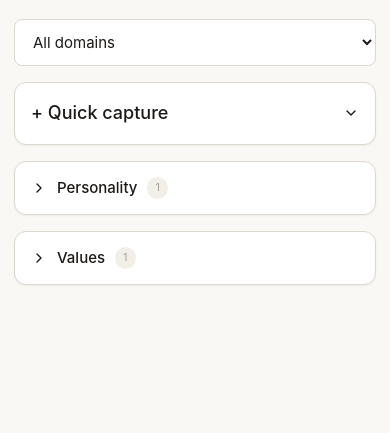
Test case: GraphTab › filters attributes via the mobile domain select
Select "personality" in the dropdown at {"x": 195, "y": 42}, box [14, 19, 376, 66]
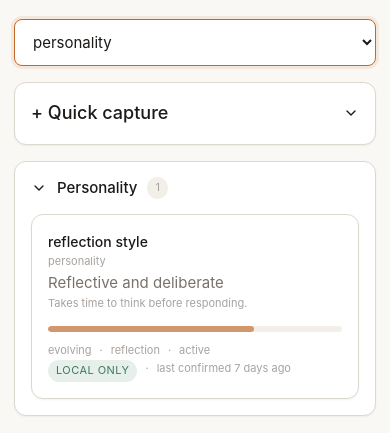
Check: the text "Reflective and deliberate" is shown, box [48, 273, 224, 292]
